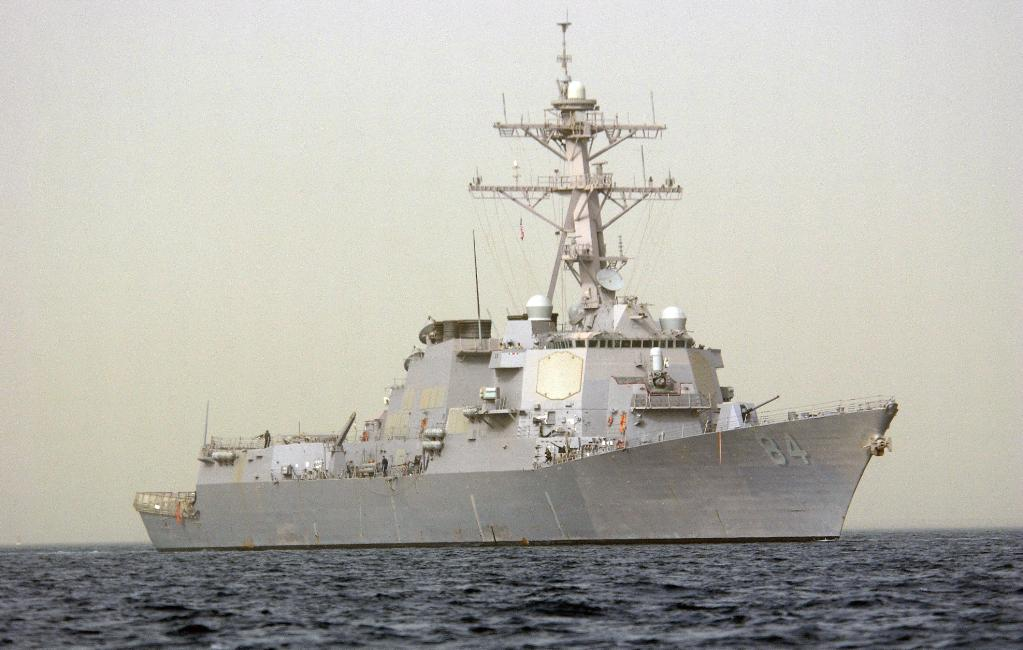Warship: (124, 6, 906, 558)
